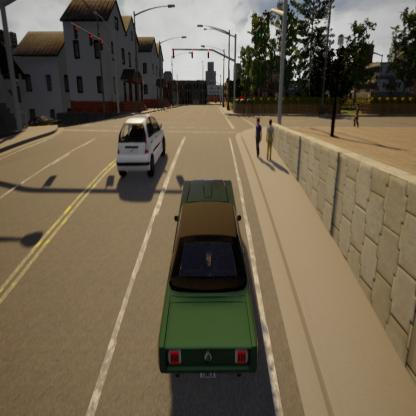Cars: (152, 127, 286, 416), (98, 58, 173, 200)
Pedestrian: (244, 110, 264, 164), (264, 106, 276, 177), (354, 90, 364, 138)
